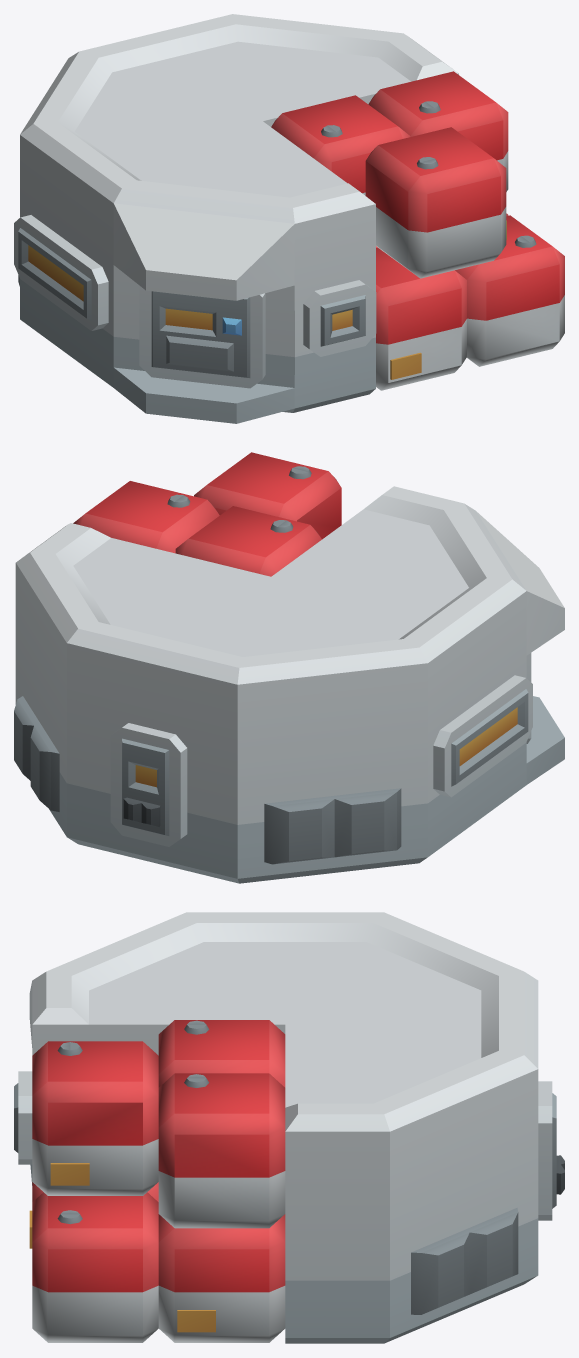
File: Cargo Depot.glb
3 views of the same model, one above another, from view 1: azimuth 30°, elevation 25°; view 2: azimuth 150°, elevation 25°; view 3: azimuth 270°, elevation 25° (orthographic). The views are drawn at different scales.
Visible parts, largest first — view 1: cargodepot_B; view 2: cargodepot_B; view 3: cargodepot_B.
Boxes of the visible parts, x1,y1,x2,y2 form: cargodepot_B: (14,14,564,423); cargodepot_B: (14,452,564,883); cargodepot_B: (14,912,564,1343).
Bounding box in the file's own units: 2.08 × 1.02 × 2.18.
1 material, 1 textured.
